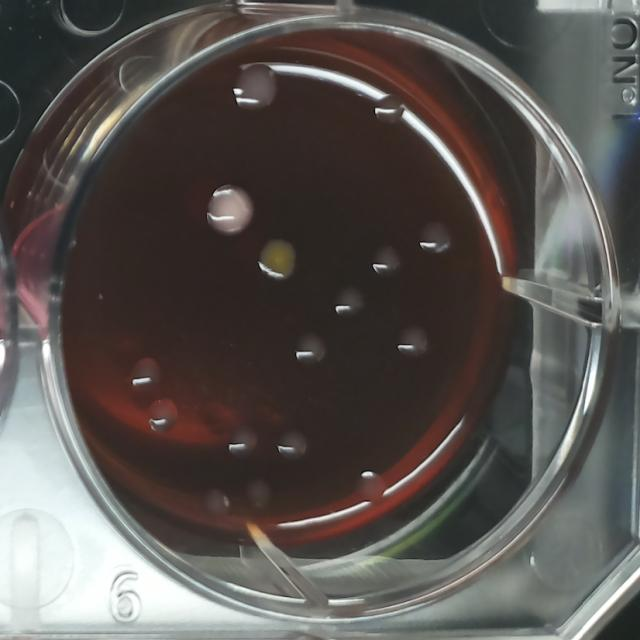Bacillus: (200, 183, 257, 242)
Vibrio: (256, 236, 300, 286), (414, 217, 456, 260), (222, 420, 264, 463), (291, 329, 332, 372), (394, 322, 434, 365), (142, 395, 182, 437), (128, 352, 166, 396), (352, 468, 390, 510), (366, 243, 406, 282), (274, 424, 310, 467), (330, 283, 368, 323), (240, 474, 276, 516), (199, 486, 234, 526)
